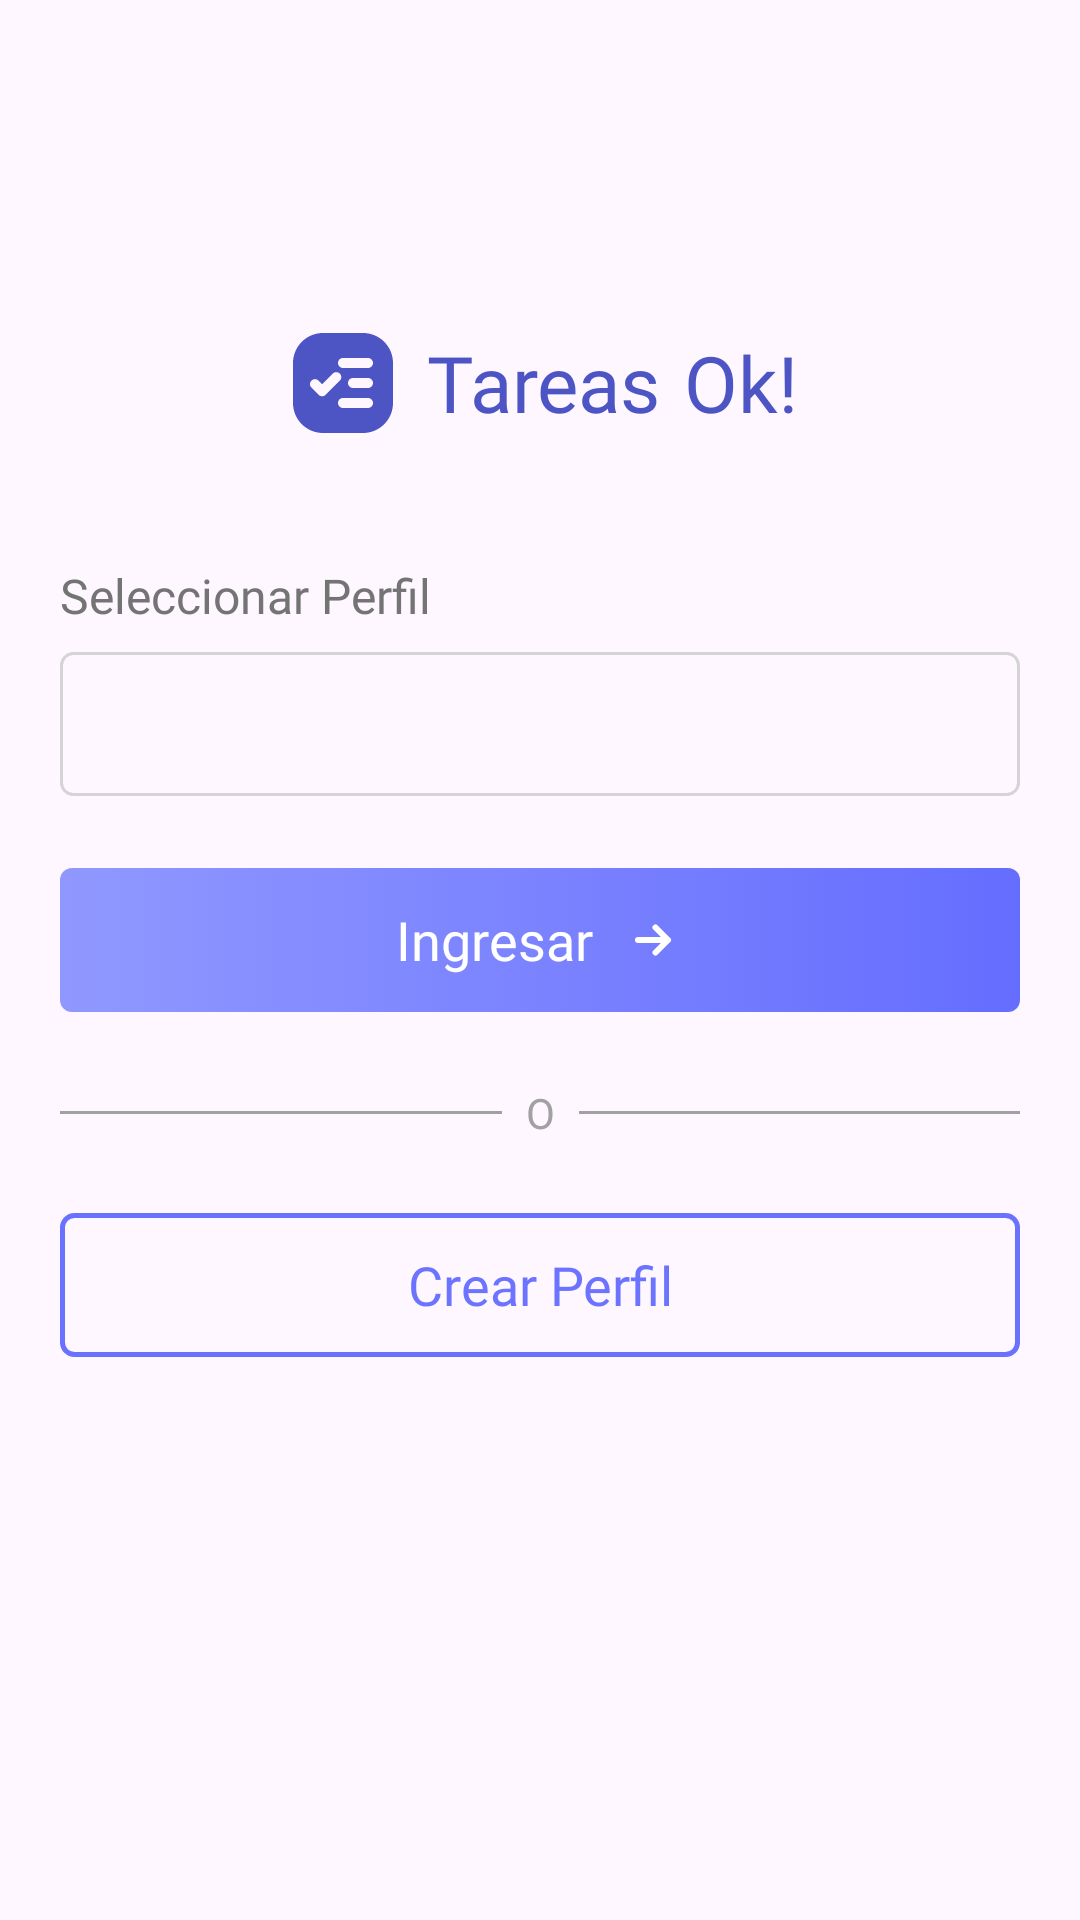

Named icons in this screenshot (1080px×1920px) and their centers, (x,y):
icono de flecha - derecha: (653,940)
